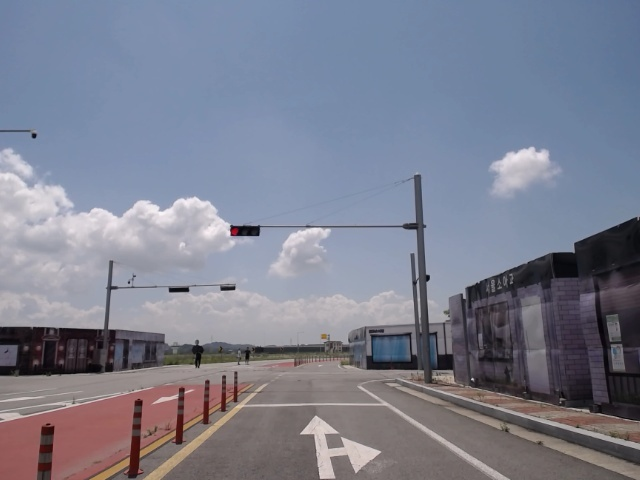red_3: (228, 226, 262, 236)
